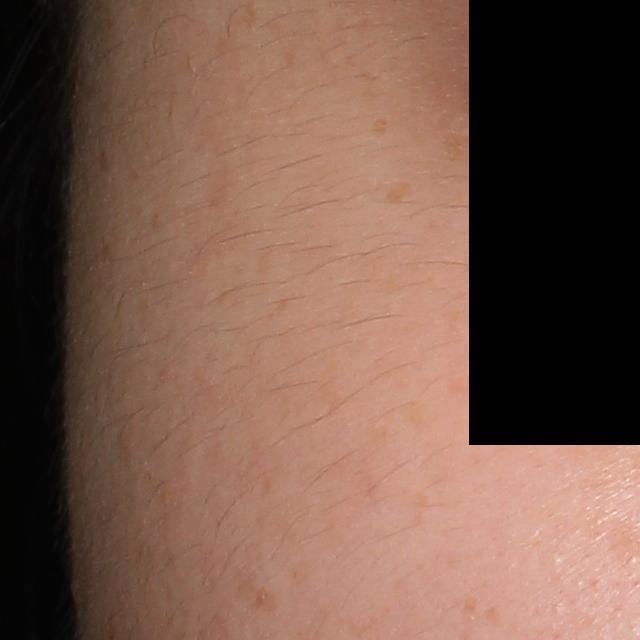melasma: (230, 566, 286, 619), (381, 179, 417, 203), (369, 114, 390, 135)
